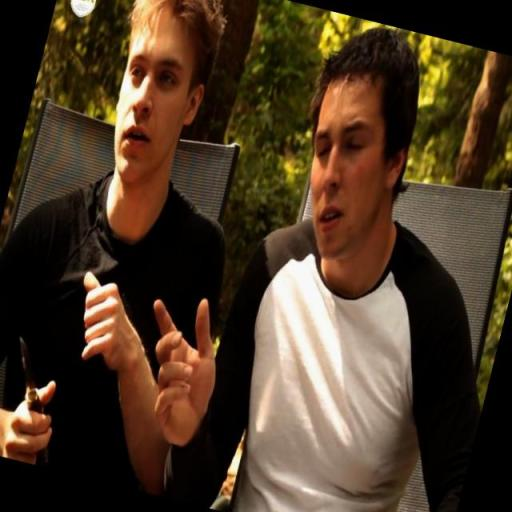knife: (0, 321, 78, 466)
